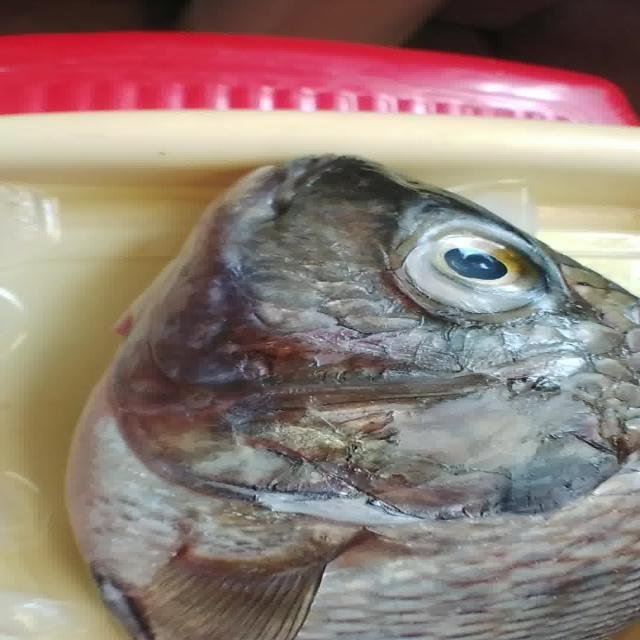Fresh: (377, 208, 576, 337)
